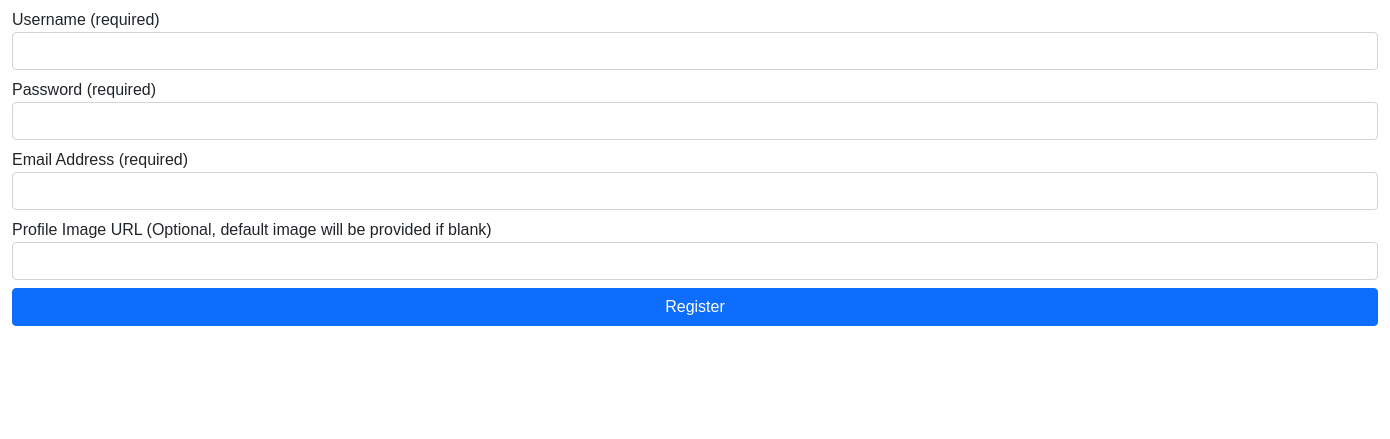
Test case: RegisterForm › Shows validation error when image is not URL, clear when empty
This screenshot has width=1390, height=439.
Type "invalid" into the field labelled "Profile Image URL (Optional, default image will be provided if blank)".
click(695, 261); type("invalid")  # box [12, 242, 1378, 280]
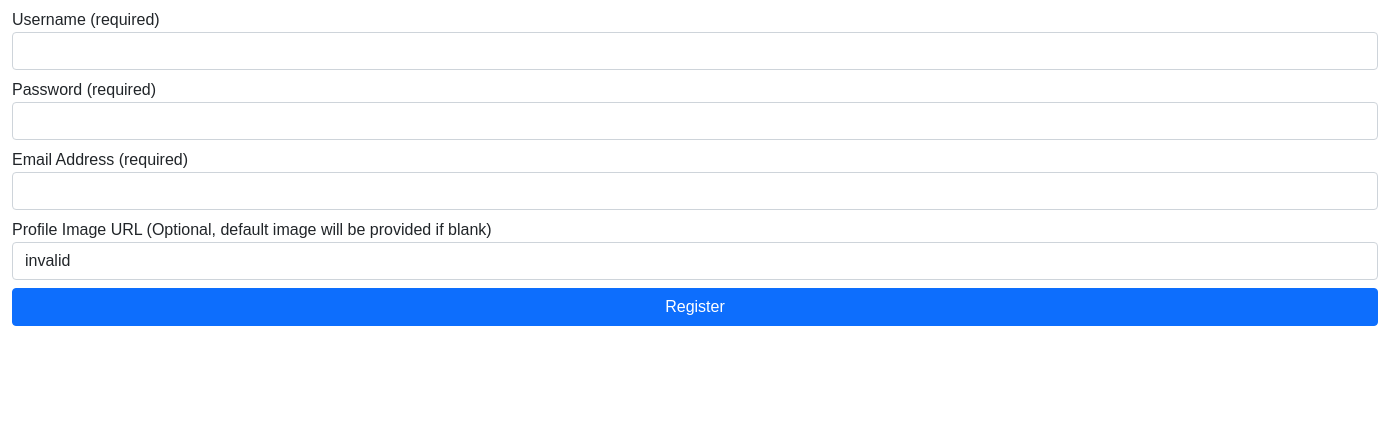
Click the button "Register".
click(695, 307)  # box [12, 288, 1378, 326]
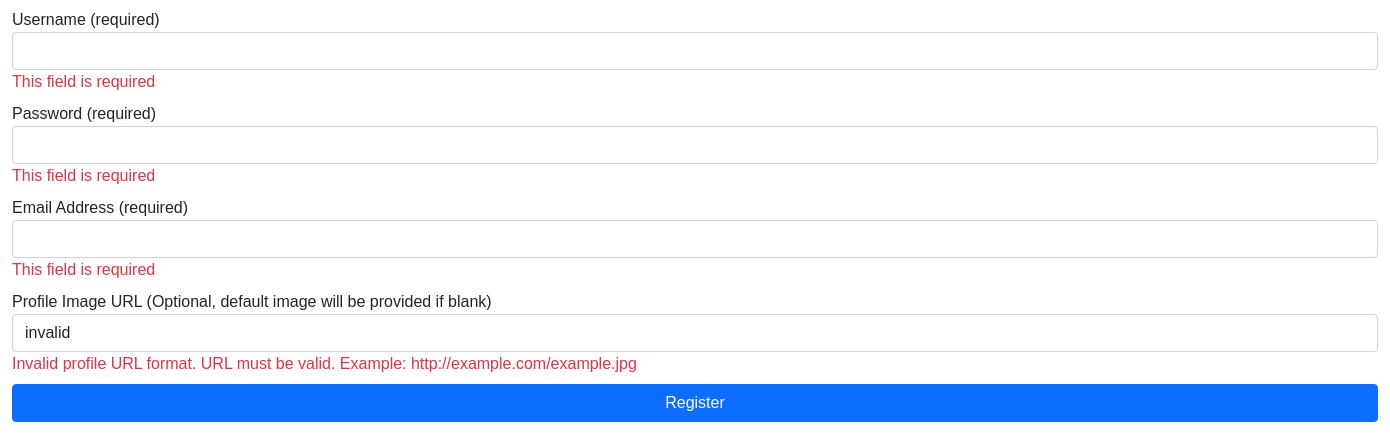
expect the text "Invalid profile URL format." is shown: met, box [12, 355, 637, 372]
Clear the field labelled "Profile Image URL (Optional, default image will be provided if blank)" at {"x": 695, "y": 333}, box [12, 314, 1378, 352]
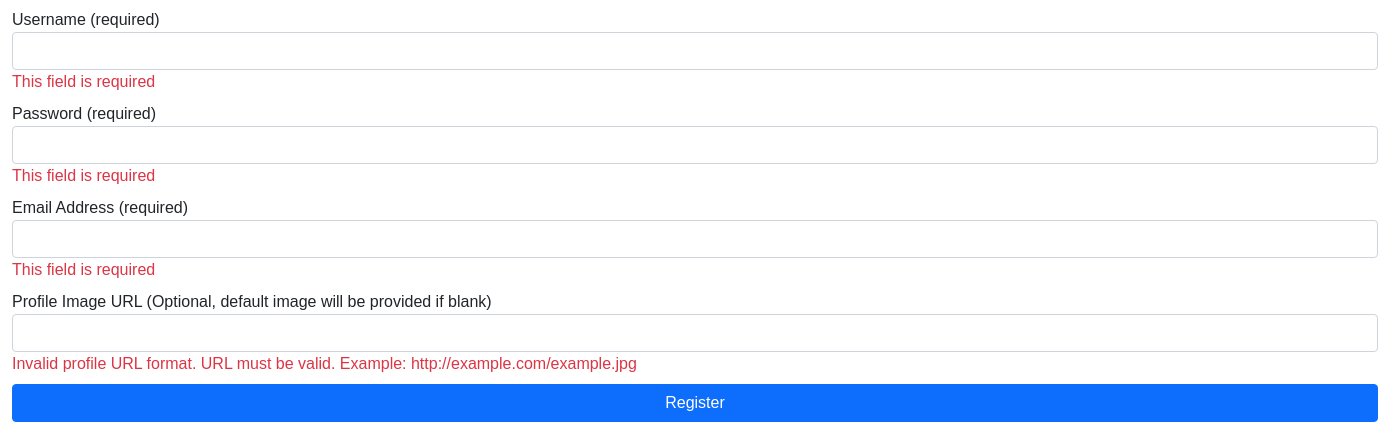
Click the button "Register".
click(695, 403)  # box [12, 384, 1378, 422]
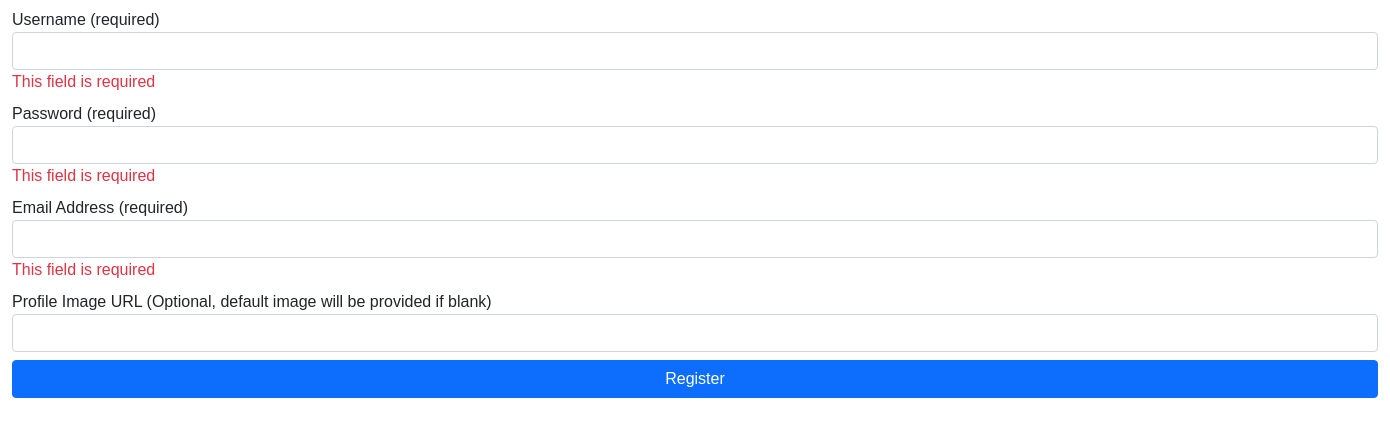
expect the text "Invalid profile URL format." is gone: met
